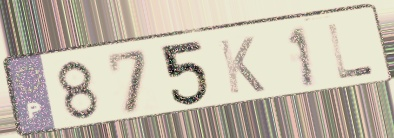1: (284, 23, 322, 89)
5: (156, 37, 214, 108)
7: (105, 47, 153, 118)
8: (55, 57, 103, 124)
K: (215, 33, 268, 97)
L: (324, 21, 378, 82)
